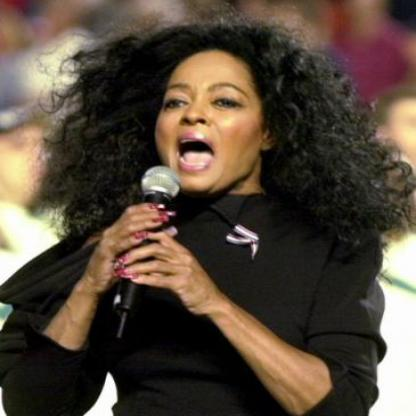face: (155, 34, 269, 196)
